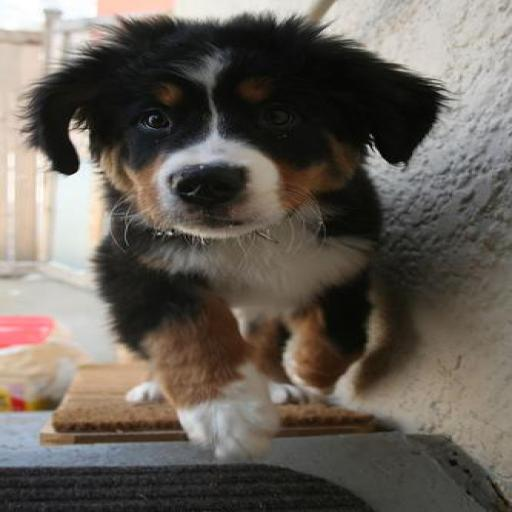dog_face: (42, 17, 435, 234)
